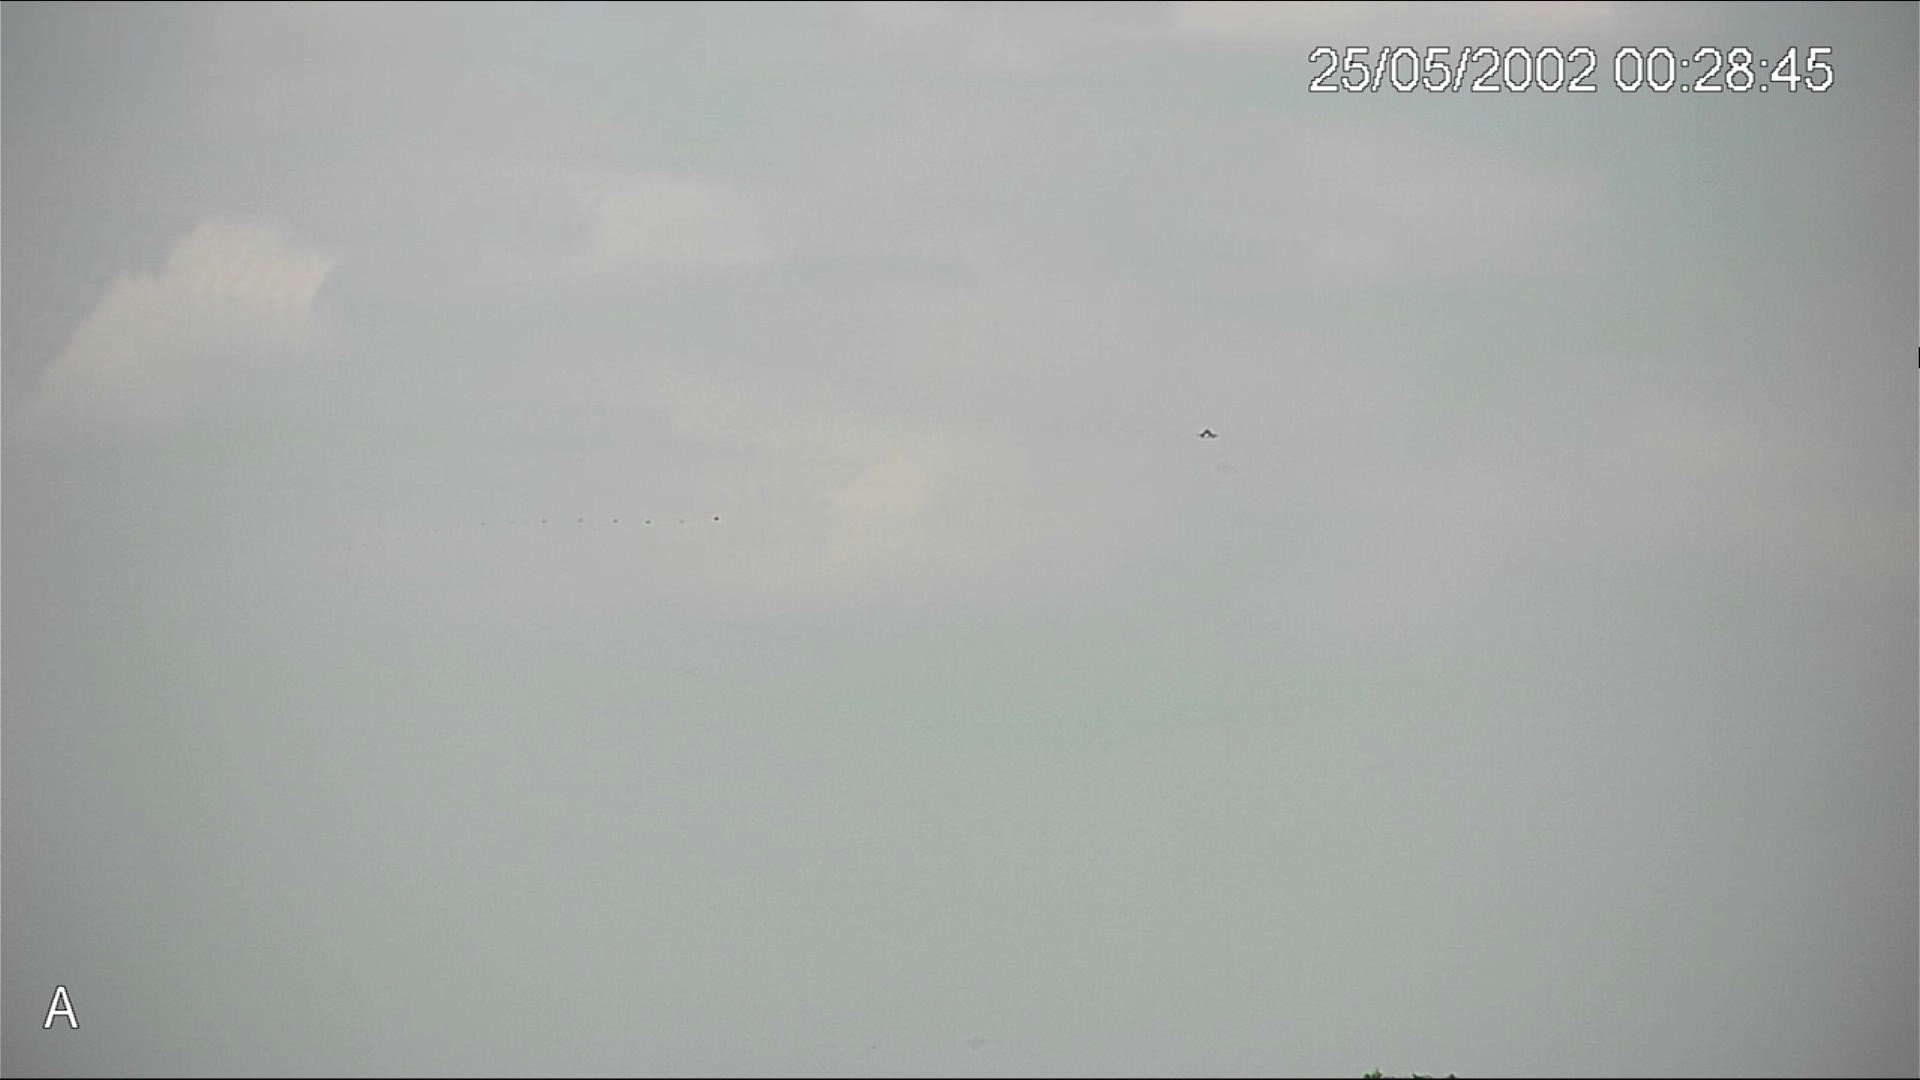SU_30: (1195, 427, 1217, 440)
